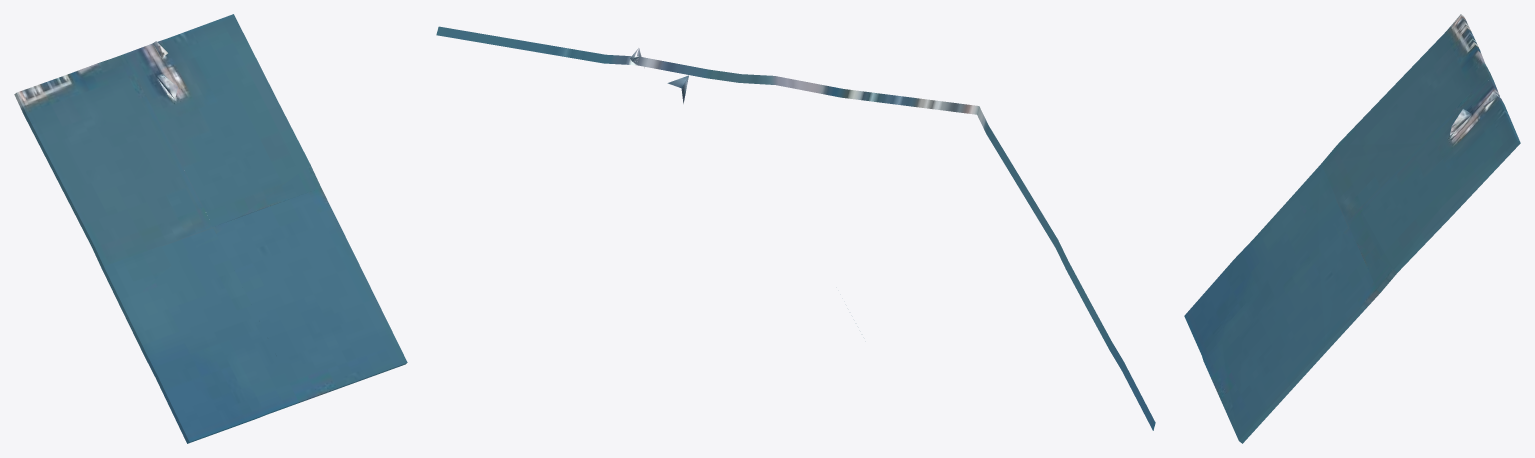
Rendered from AJVsH2zUHRJY0Jfz8ofwcctx6khh4Xf1Uss-HTzVEraUapehbJOq2QJAe2pAYwMkkEoY7W9CPJlHvWF_YOGtW5PQkHu4azGwccaTeDitcCJX1bQgDpf8Tt51w5eM6Gxko-AkNaKuvVUuk2BP4Op2FnwxrErnOH65LQ.glb.
3 renders of one model, left to right at view 1: azimuth 30°, elevation 25°; view 2: azimuth 150°, elevation 25°; view 3: azimuth 270°, elevation 25°, orthographic. The views are drawn at different scales.
Bounding box in the file's own units: 257 × 231 × 246.
Materials: 1 (1 with a texture image).
